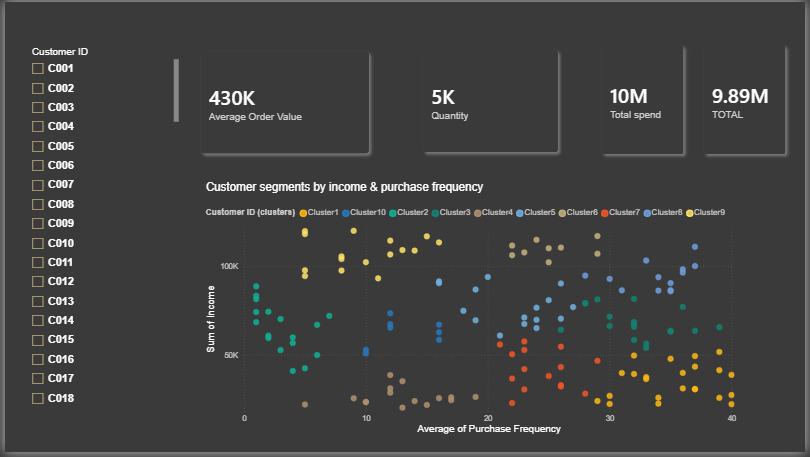

Layout of this report page (visuals, bound fields, positions):
{"tool":"powerbi","page":{"name":"Page 1","canvas":[1280,720],"ordinal":0},"visuals":[{"type":"cardVisual","fields":{"Data":["Sum(Customer Data.Income)","Sum(Summary.Value)"]},"box":[926.7,40,353.3,233.3],"z":0},{"type":"cardVisual","fields":{"Data":["Sum(Customer Data.Average Order Value)"]},"box":[283.5,50.7,328,222],"z":1000},{"type":"cardVisual","fields":{"Data":["Sum(Customer Data.Quantity)"]},"box":[640,48,274,222],"z":2000},{"type":"scatterChart","title":"Customer segments by income & purchase frequency","fields":{"X":["Avg(Customer Data.Purchase Frequency)"],"Category":["Customer Data.Customer ID"],"Y":["Sum(Customer Data.Income)"],"Series":["Customer Data.Customer ID (clusters)"]},"box":[315,285,863.3,410],"z":3000},{"type":"slicer","fields":{"Values":["Customer Data.Customer ID"]},"box":[30,65,253.3,588.3],"z":4000}]}

Visuals, with their boxes in screenshot pixels (x1, y1, x2, y2), scaled from the page's 1280x720 canvas onto the 810x457 screenshot:
cardVisual - Sum(Customer Data.Income) x Sum(Summary.Value): x1=586, y1=25, x2=809, y2=173
cardVisual - Sum(Customer Data.Average Order Value): x1=179, y1=32, x2=387, y2=173
cardVisual - Sum(Customer Data.Quantity): x1=405, y1=30, x2=578, y2=171
"Customer segments by income & purchase frequency" scatterChart: x1=199, y1=181, x2=746, y2=441
slicer - Customer Data.Customer ID: x1=19, y1=41, x2=179, y2=415
